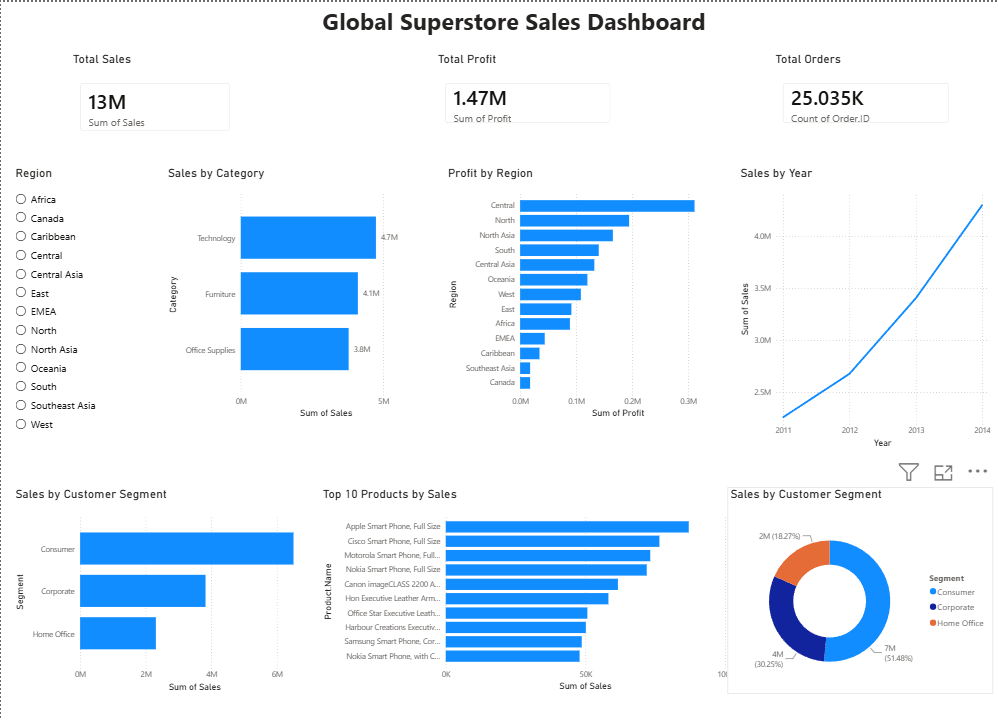

This screenshot's page, from the dashboard's own definition file:
{"tool":"powerbi","page":{"name":"Page 1","canvas":[1597,1150],"ordinal":0},"visuals":[{"type":"cardVisual","title":"Total Sales","fields":{"Data":["Sum(superstore.Sales)"]},"box":[110,80,273.4,144.4],"z":0},{"type":"cardVisual","title":"Total Profit","fields":{"Data":["Sum(superstore.Profit)"]},"box":[694,80,298.9,130.8],"z":1000},{"type":"cardVisual","title":"Total Orders","fields":{"Data":["Count(superstore.Order.ID)"]},"box":[1234,80,300.6,130.8],"z":2000},{"type":"clusteredBarChart","title":"Sales by Category","fields":{"Category":["superstore.Category"],"Y":["Sum(superstore.Sales)"]},"box":[262,262,409.3,409.3],"z":3000},{"type":"clusteredBarChart","title":"Profit by Region","fields":{"Category":["superstore.Region"],"Y":["Sum(superstore.Profit)"]},"box":[710,262,453.5,409.3],"z":4000},{"type":"lineChart","title":"Sales by Year","fields":{"Y":["Sum(superstore.Sales)"],"Category":["superstore.Order.Date.Variation.Date Hierarchy.Year","superstore.Order.Date.Variation.Date Hierarchy.Quarter","superstore.Order.Date.Variation.Date Hierarchy.Month","superstore.Order.Date.Variation.Date Hierarchy.Day"]},"box":[1178,262,410,456],"z":5000},{"type":"clusteredBarChart","title":"Sales by Customer Segment","fields":{"Category":["superstore.Segment"],"Y":["Sum(superstore.Sales)"]},"box":[17.5,775,490,332.5],"z":6000},{"type":"clusteredBarChart","title":"Top 10 Products by Sales","fields":{"Category":["superstore.Product.Name"],"Y":["Sum(superstore.Sales)"]},"box":[510,775,668,332],"z":7000},{"type":"textbox","box":[435,0,770,80],"z":8000},{"type":"listSlicer","fields":{"Values":["superstore.Region"]},"box":[17.5,262.5,220,432.5],"z":9000},{"type":"donutChart","title":"Sales by Customer Segment","fields":{"Category":["superstore.Segment"],"Y":["Sum(superstore.Sales)"]},"box":[1162.5,775,425,332.5],"z":9001}]}

Visuals, with their boxes in screenshot pixels (x1, y1, x2, y2), scaled from the page's 1597x1150 canvas onto the 998x720 screenshot:
"Total Sales" cardVisual: x1=69 y1=50 x2=240 y2=140
"Total Profit" cardVisual: x1=434 y1=50 x2=620 y2=132
"Total Orders" cardVisual: x1=771 y1=50 x2=959 y2=132
"Sales by Category" clusteredBarChart: x1=164 y1=164 x2=420 y2=420
"Profit by Region" clusteredBarChart: x1=444 y1=164 x2=727 y2=420
"Sales by Year" lineChart: x1=736 y1=164 x2=992 y2=450
"Sales by Customer Segment" clusteredBarChart: x1=11 y1=485 x2=317 y2=693
"Top 10 Products by Sales" clusteredBarChart: x1=319 y1=485 x2=736 y2=693
textbox: x1=272 y1=0 x2=753 y2=50
listSlicer - superstore.Region: x1=11 y1=164 x2=148 y2=435
"Sales by Customer Segment" donutChart: x1=726 y1=485 x2=992 y2=693
